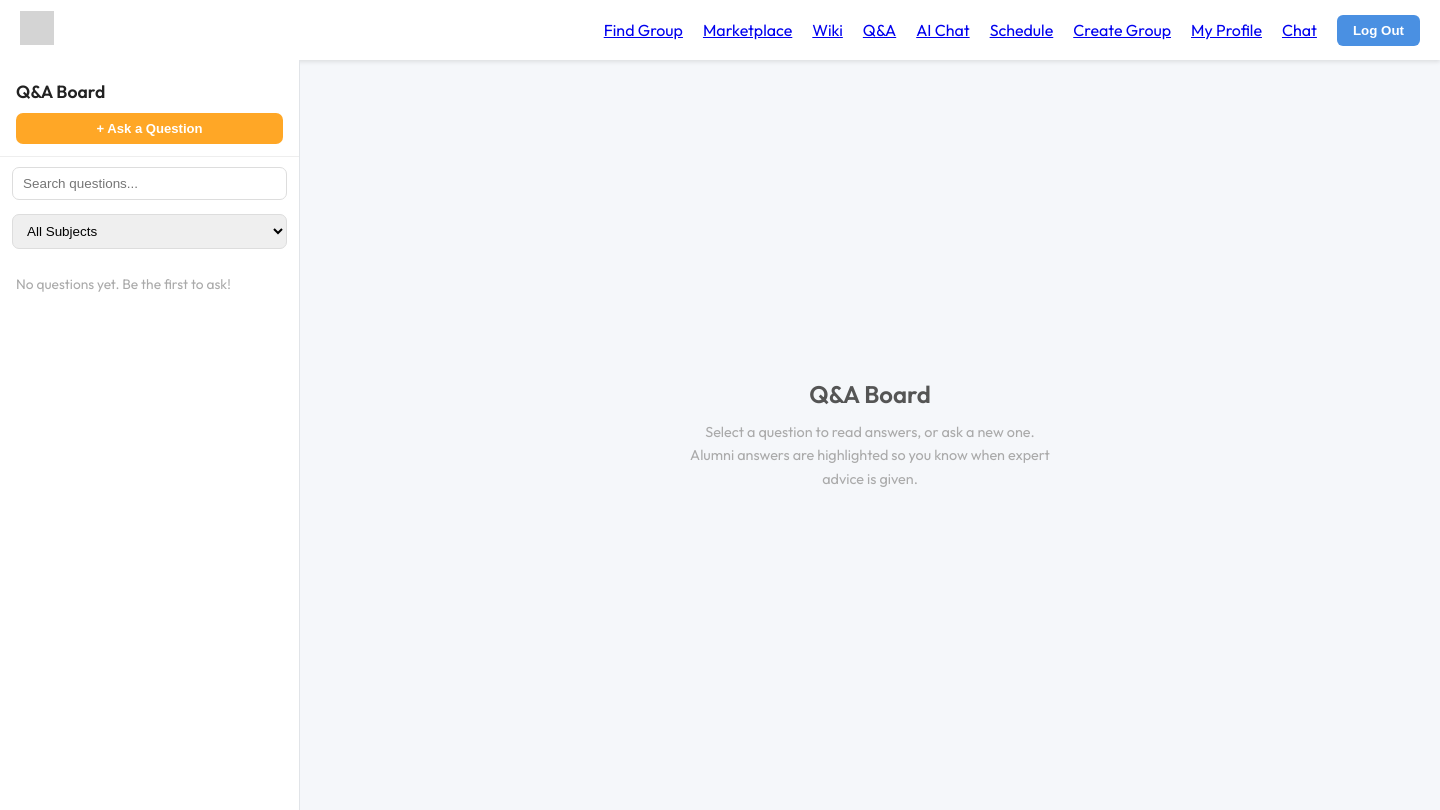
Test: QABoard page › pressing Enter in tag input adds a tag pill
The image size is (1440, 810).
Click the button "+ Ask a Question": (150, 128) 16,113 -> 283,144
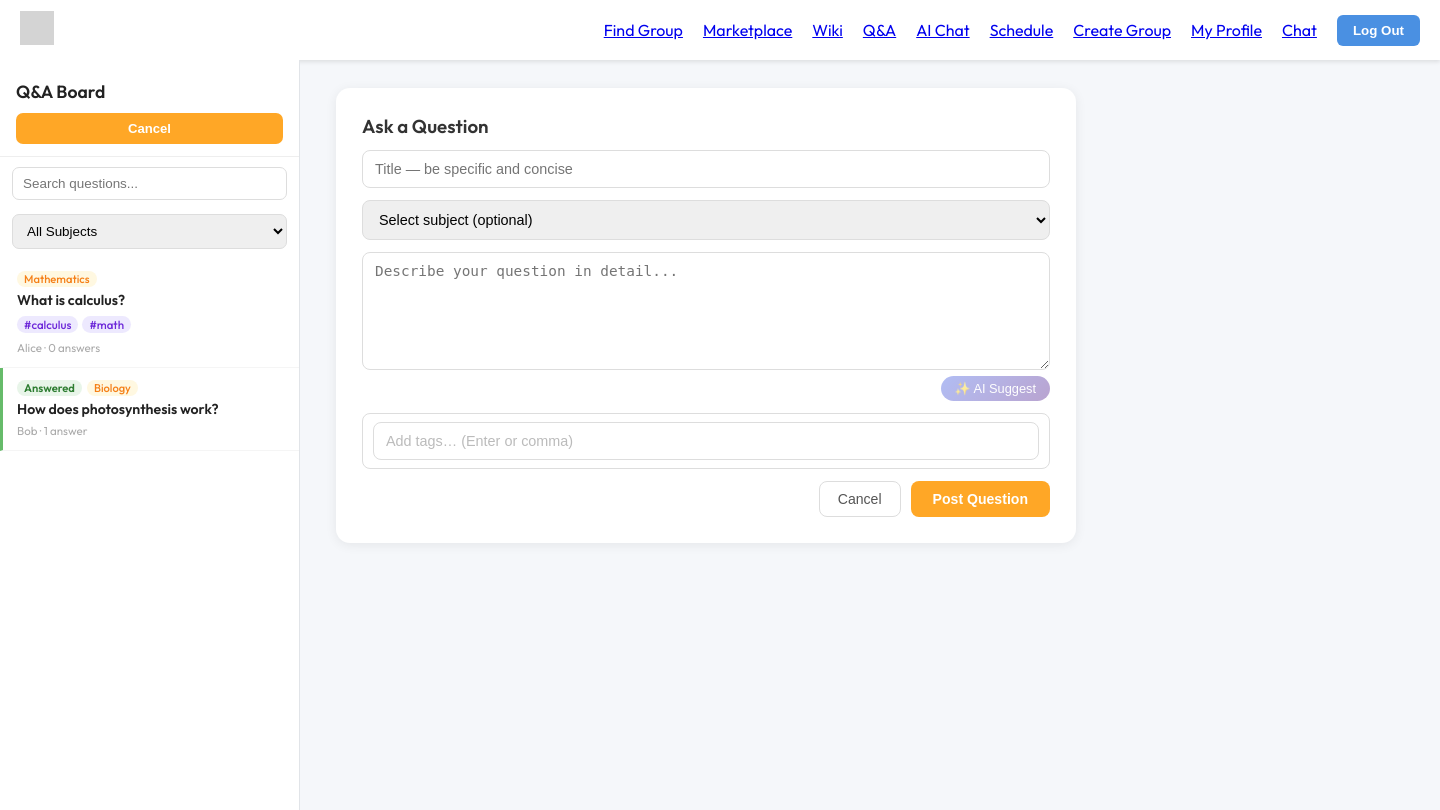
In the field with placeholder "Add tags… (Enter or comma)": (706, 441) 373,422 -> 1039,460, type "algebra"
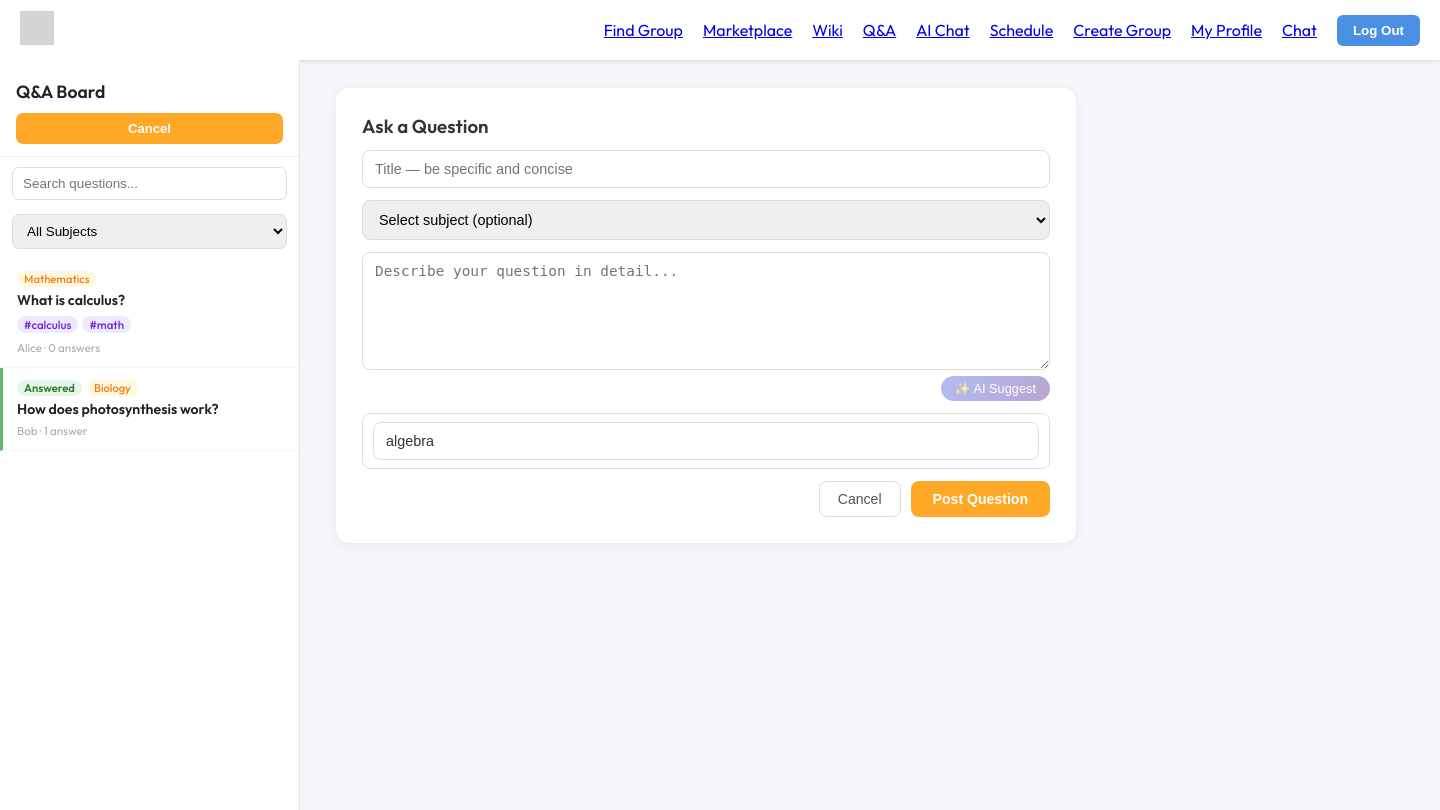
Press Enter in the field with placeholder "Add tags… (Enter or comma)", box 373,422 -> 1039,460
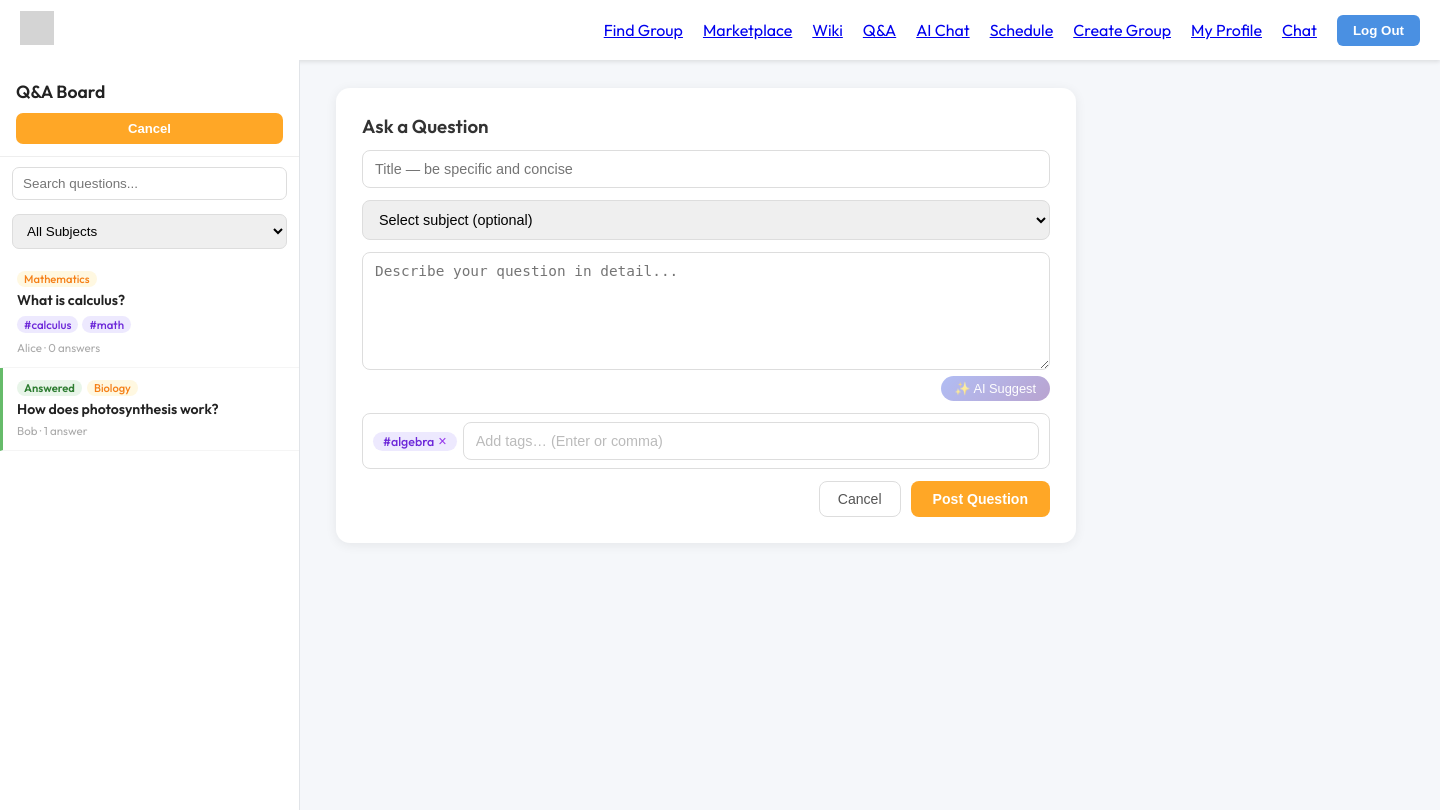
Result: the text "#algebra" is shown at 373,432 -> 457,450
